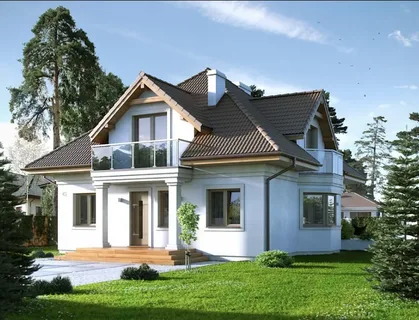private_hause: (58, 75, 349, 254)
